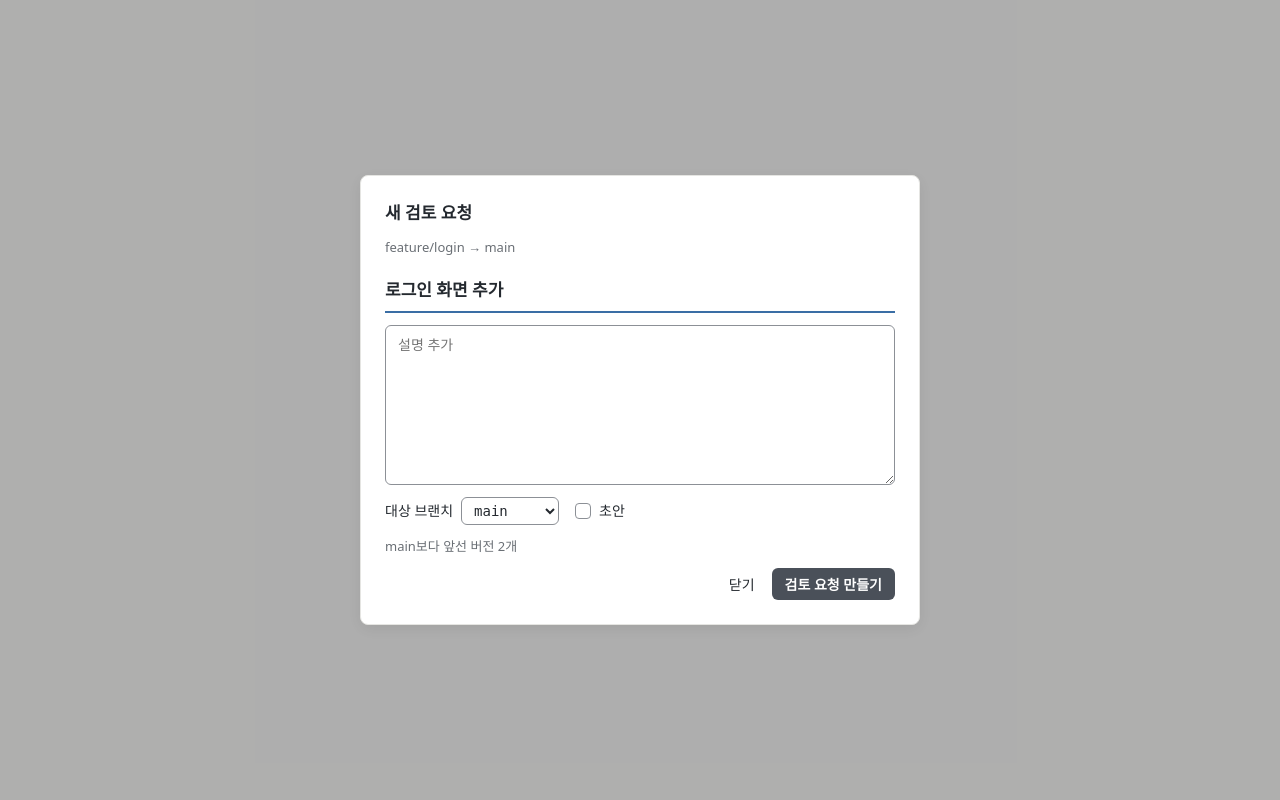
Test: CreatePrDialog › 기본값으로 채우고, 이미 올라가 있으면 검토 요청만 만든다
Expected: the field named "제목" holds "로그인 화면 추가", [385,269,895,312]
Expected: the text "feature/login → main" is shown, [385,238,515,256]
Select "develop" in the dropdown: (510, 510) [461,496,559,524]
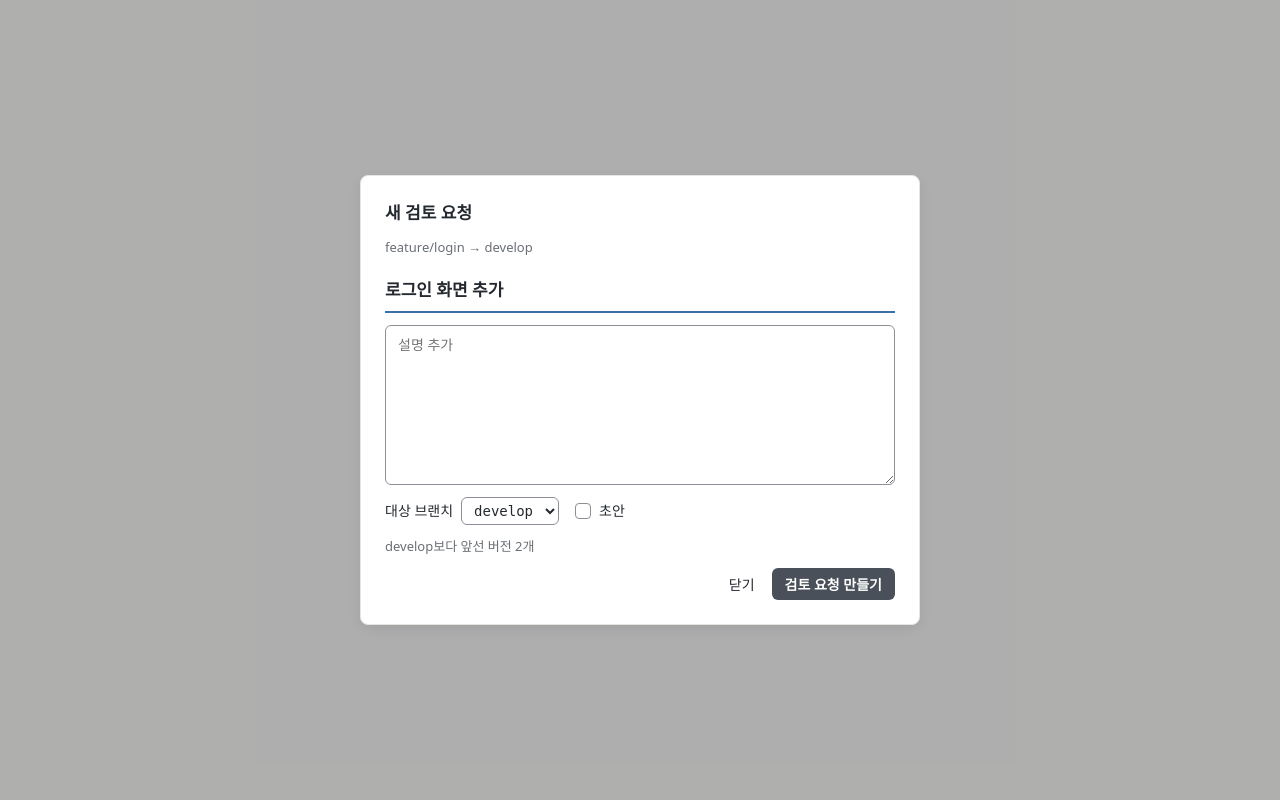
Click the checkbox: (583, 510) [575,502,591,518]
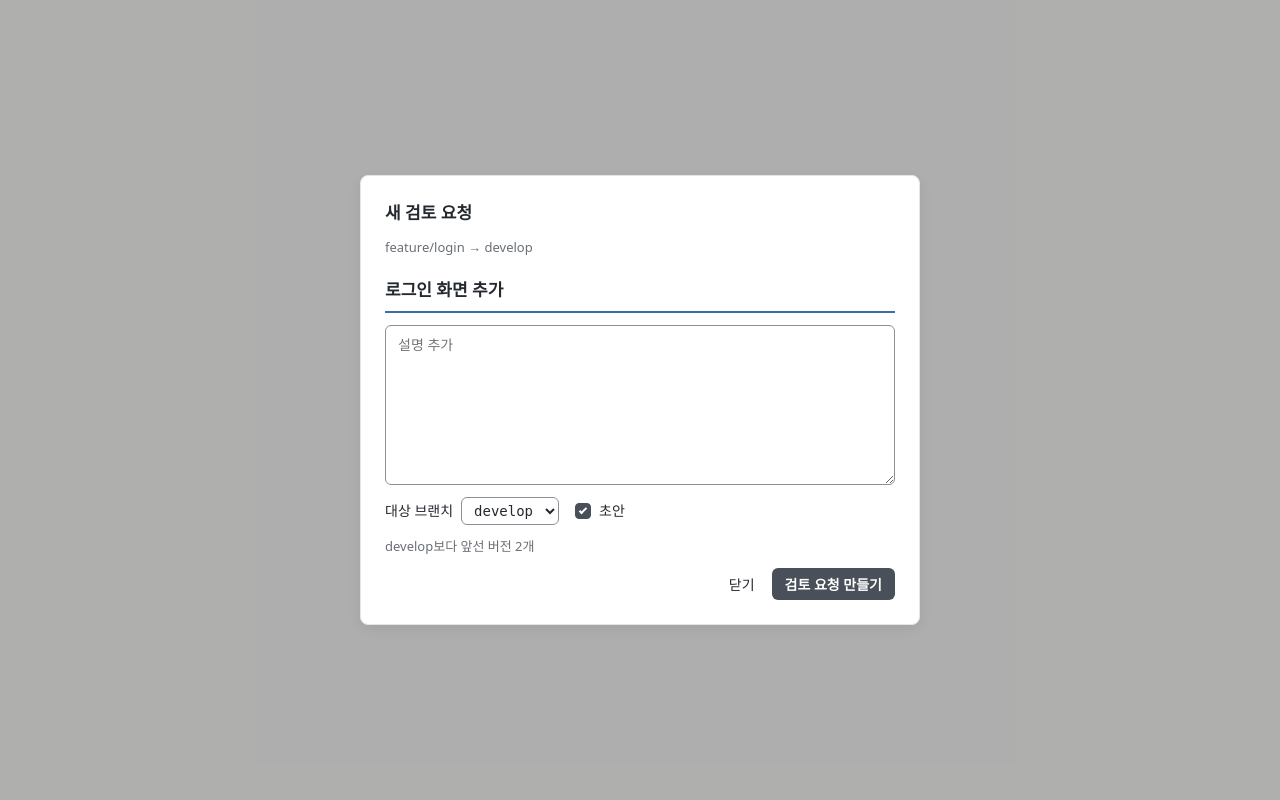
In the text box labelled "설명 추가": (640, 404) [385,324,895,484], type "본문"
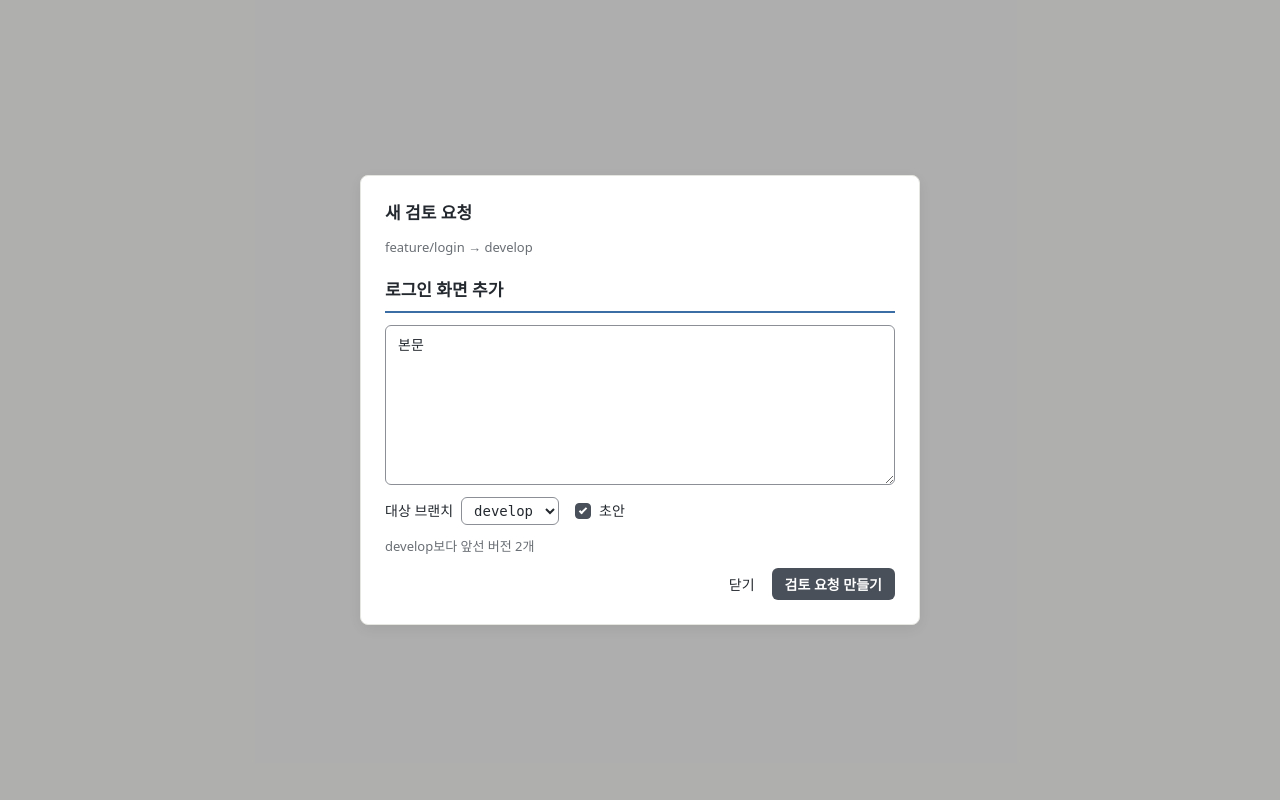
Click the button "검토 요청 만들기": (833, 584) [772,568,895,600]
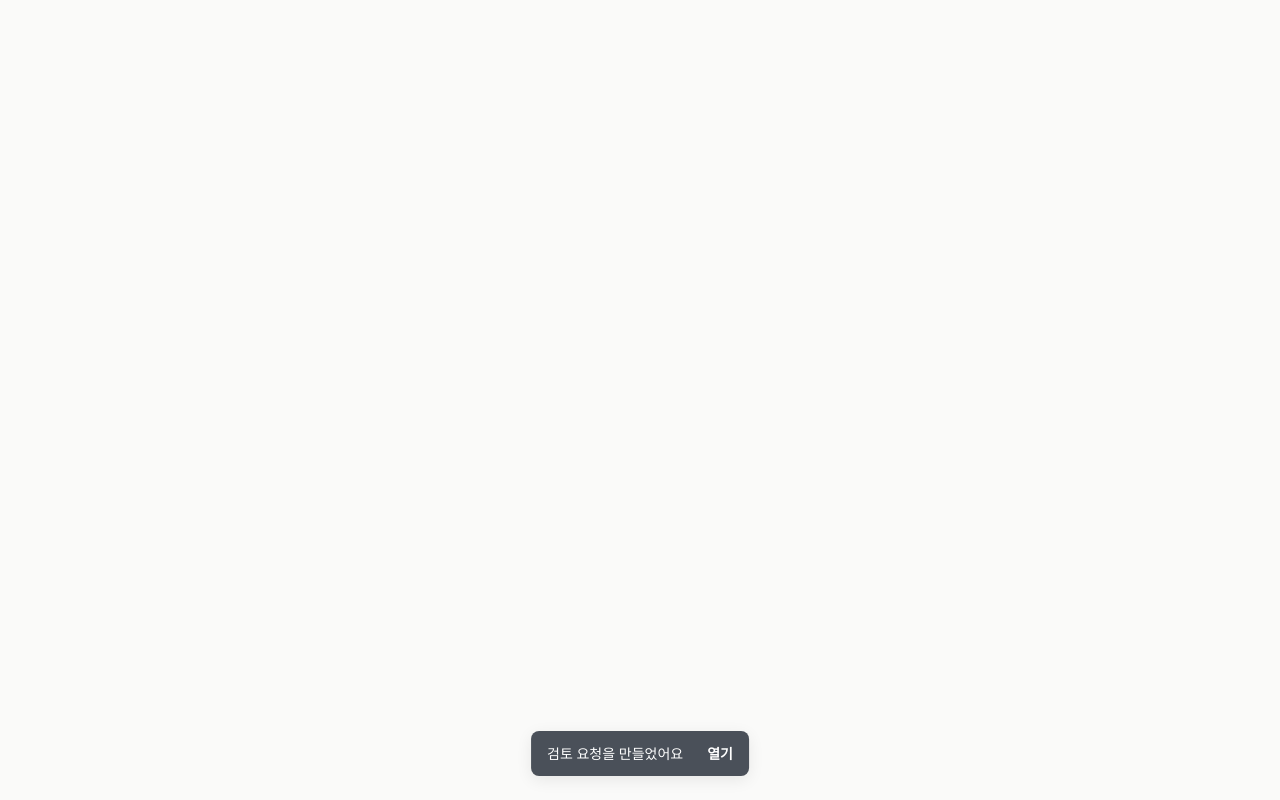
Now the text "검토 요청을 만들었어요" is shown, box [547,743,683,764]
